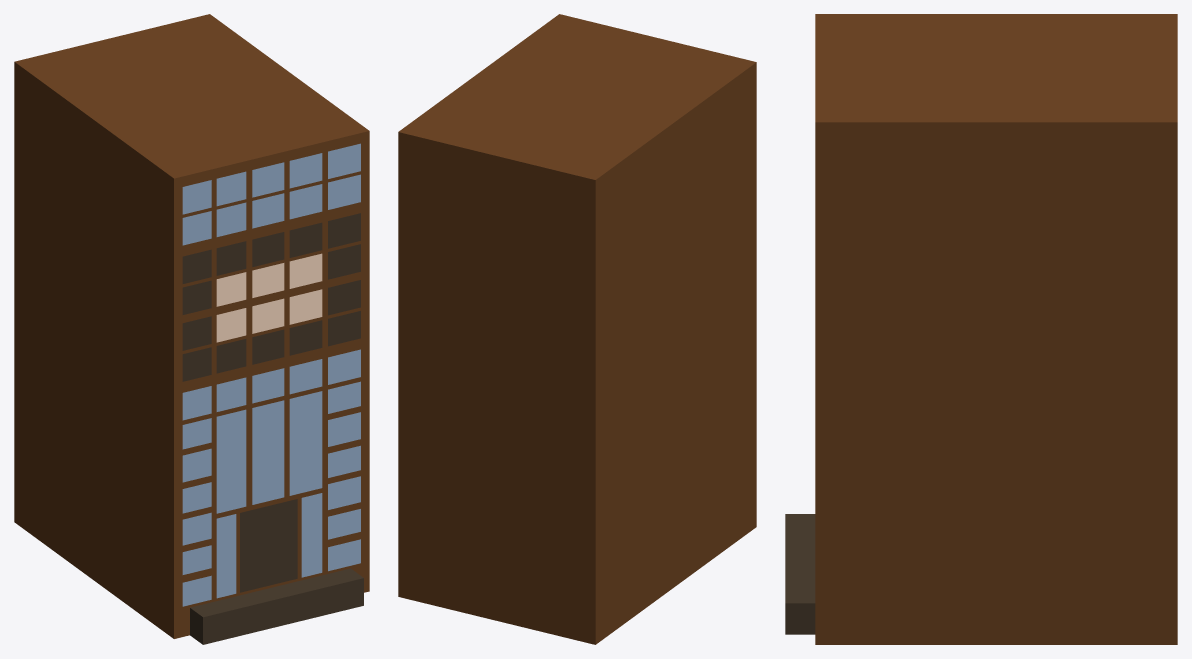
File: modernGrachthuis2lowLOD.fbx
3 views of the same model, side by side, from view 1: azimuth 30°, elevation 25°; view 2: azimuth 150°, elevation 25°; view 3: azimuth 270°, elevation 25° (orthographic). The views are drawn at different scales.
Parts seen in each view (by area): view 1: Cube; view 2: Cube; view 3: Cube.
Boxes of the visible parts, x1,y1,x2,y2 form: Cube: (14, 14, 369, 644); Cube: (398, 14, 756, 644); Cube: (785, 14, 1177, 644).
Size of the model in its own units: 104 by 235 by 160.
